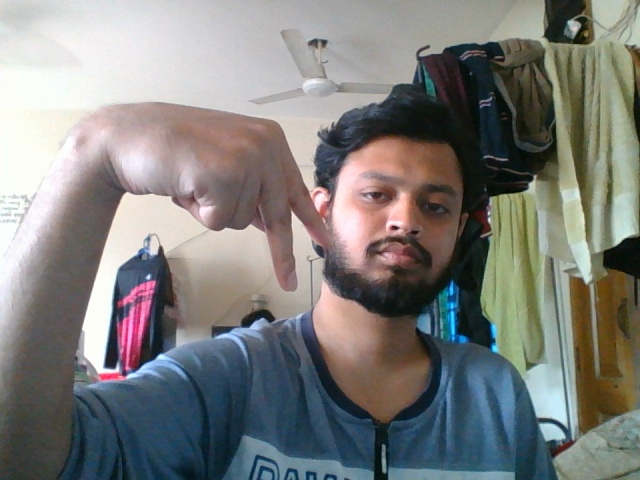pa: (99, 103, 344, 299)
